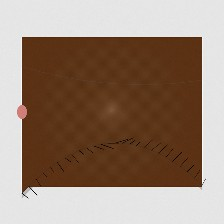hemorrhage_spot: (52, 80, 123, 136)
